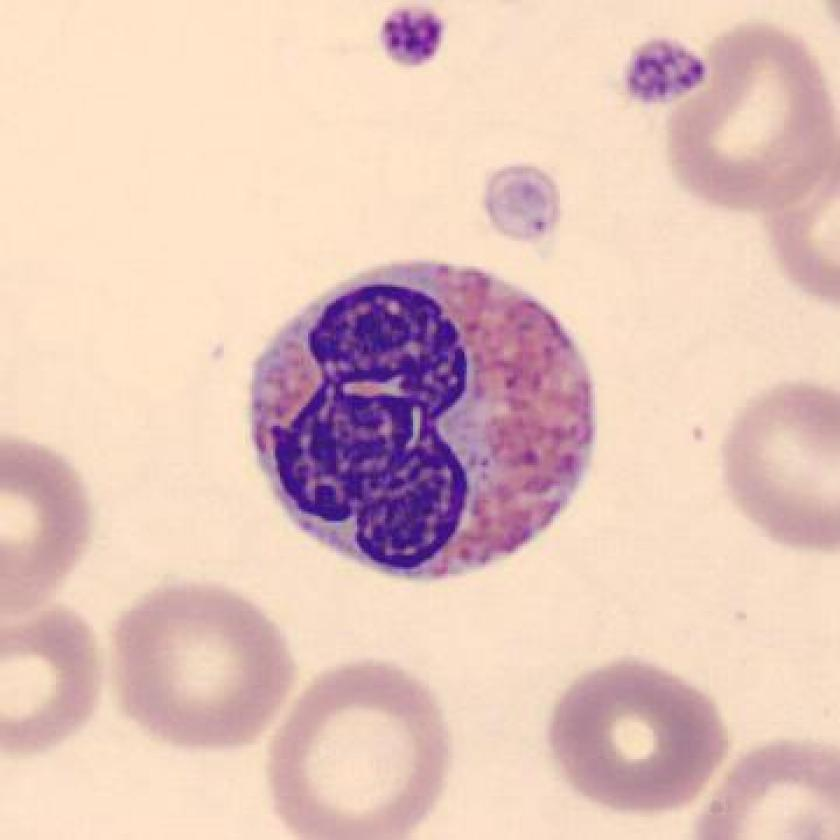eosinophil: (228, 244, 620, 593)
